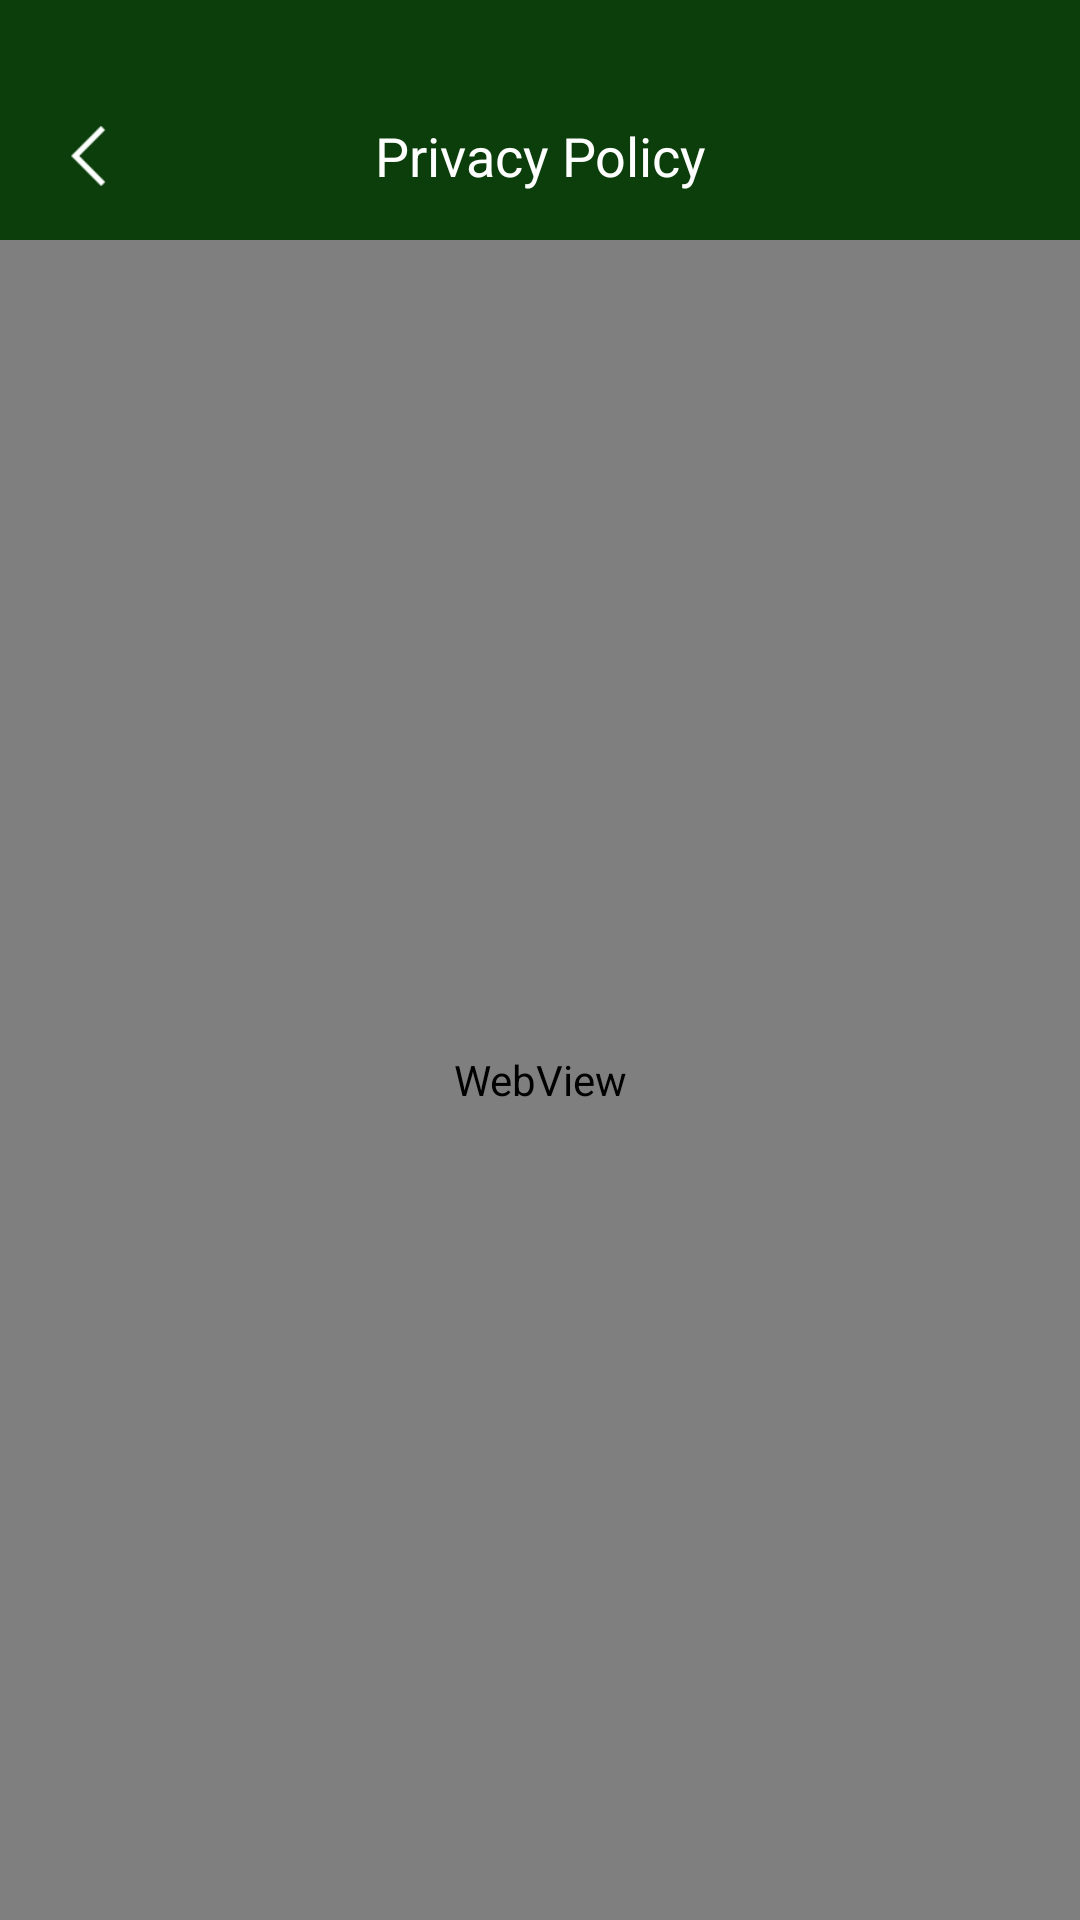

Screen size 1080*1920. Icon name, then its center in pixels as [x,y]:
back: [88,156]
